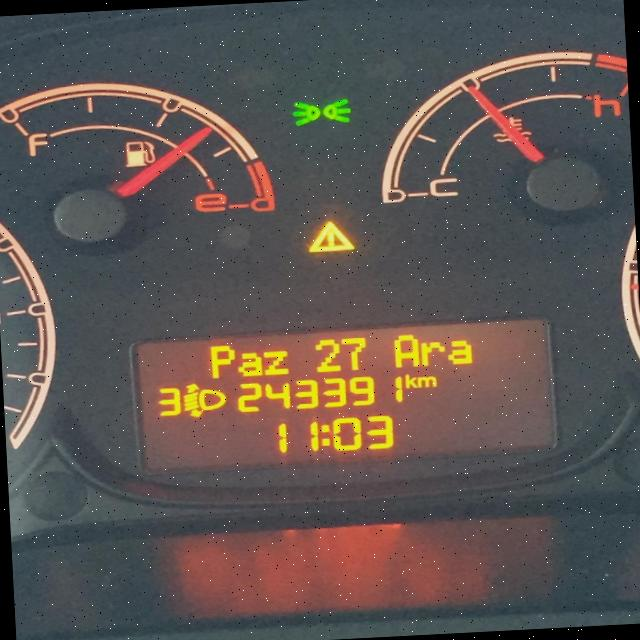odometer: (133, 316, 562, 470)
